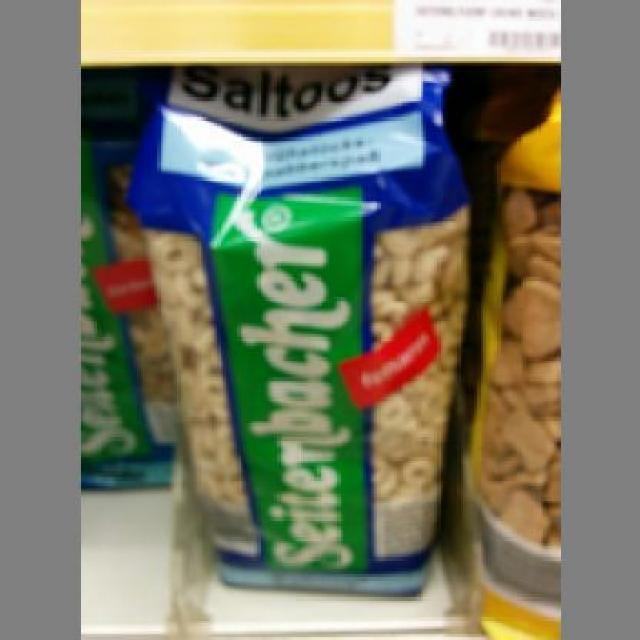Cereal: (126, 72, 466, 598)
